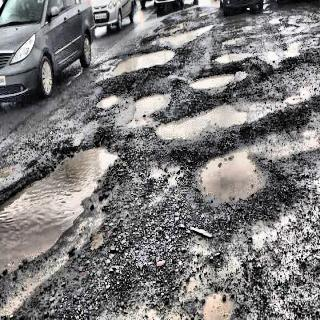pothole: (7, 122, 116, 257), (194, 147, 266, 211), (164, 113, 255, 142), (189, 58, 247, 98), (114, 44, 178, 78), (160, 20, 215, 50)
